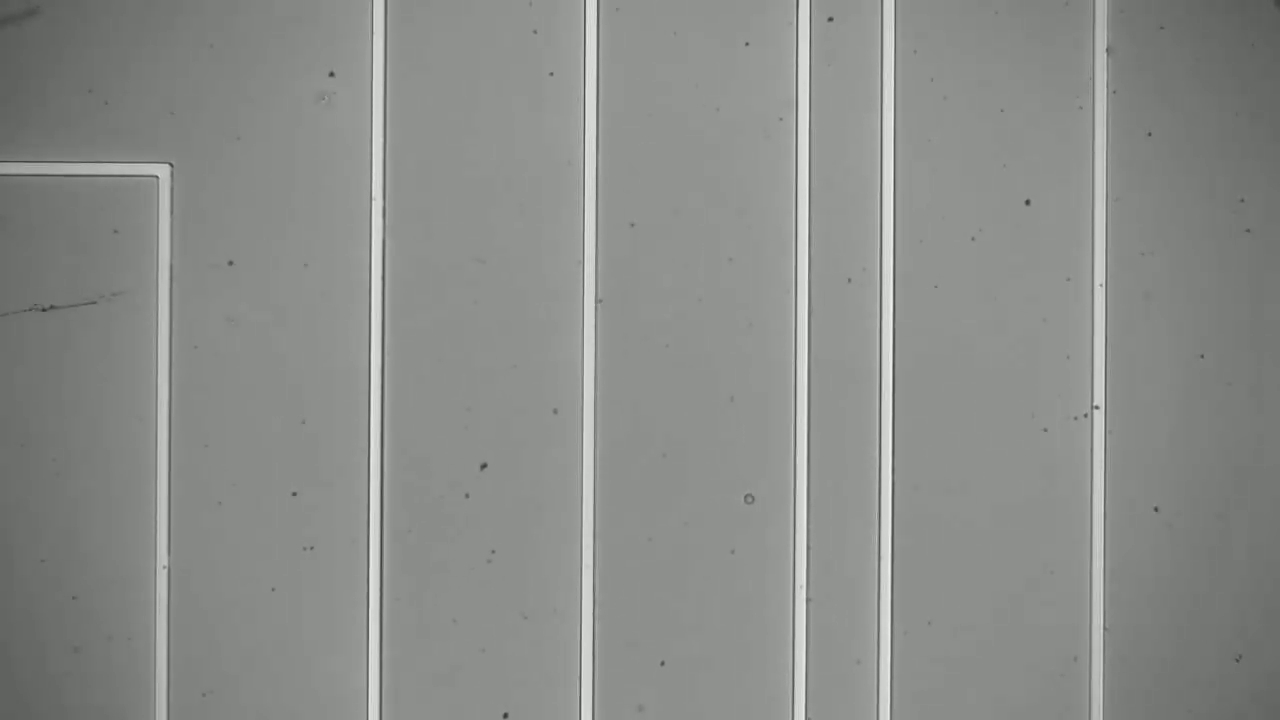scratch: (19, 281, 135, 313)
